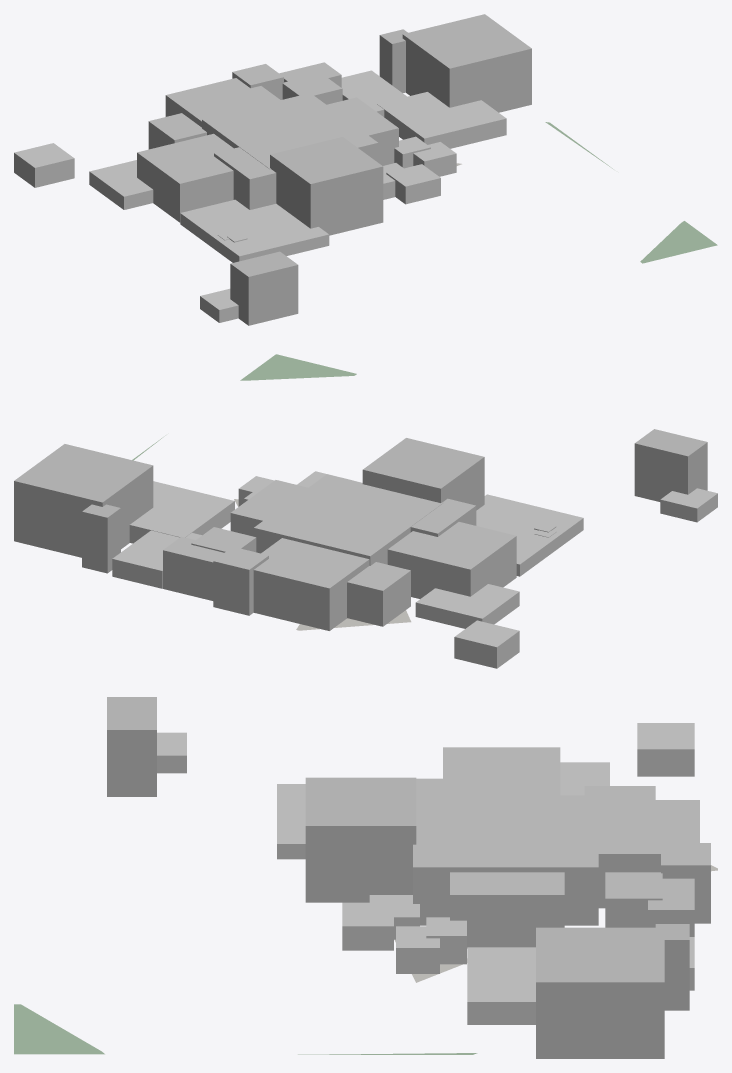
Rendered from 130_106_mid.glb.
The picture shows the model from 3 angles, top to bottom: view 1: azimuth 30°, elevation 25°; view 2: azimuth 150°, elevation 25°; view 3: azimuth 270°, elevation 25°; orthographic projection. The views are drawn at different scales.
Bounding box in the file's own units: 515 × 60.8 × 500.
